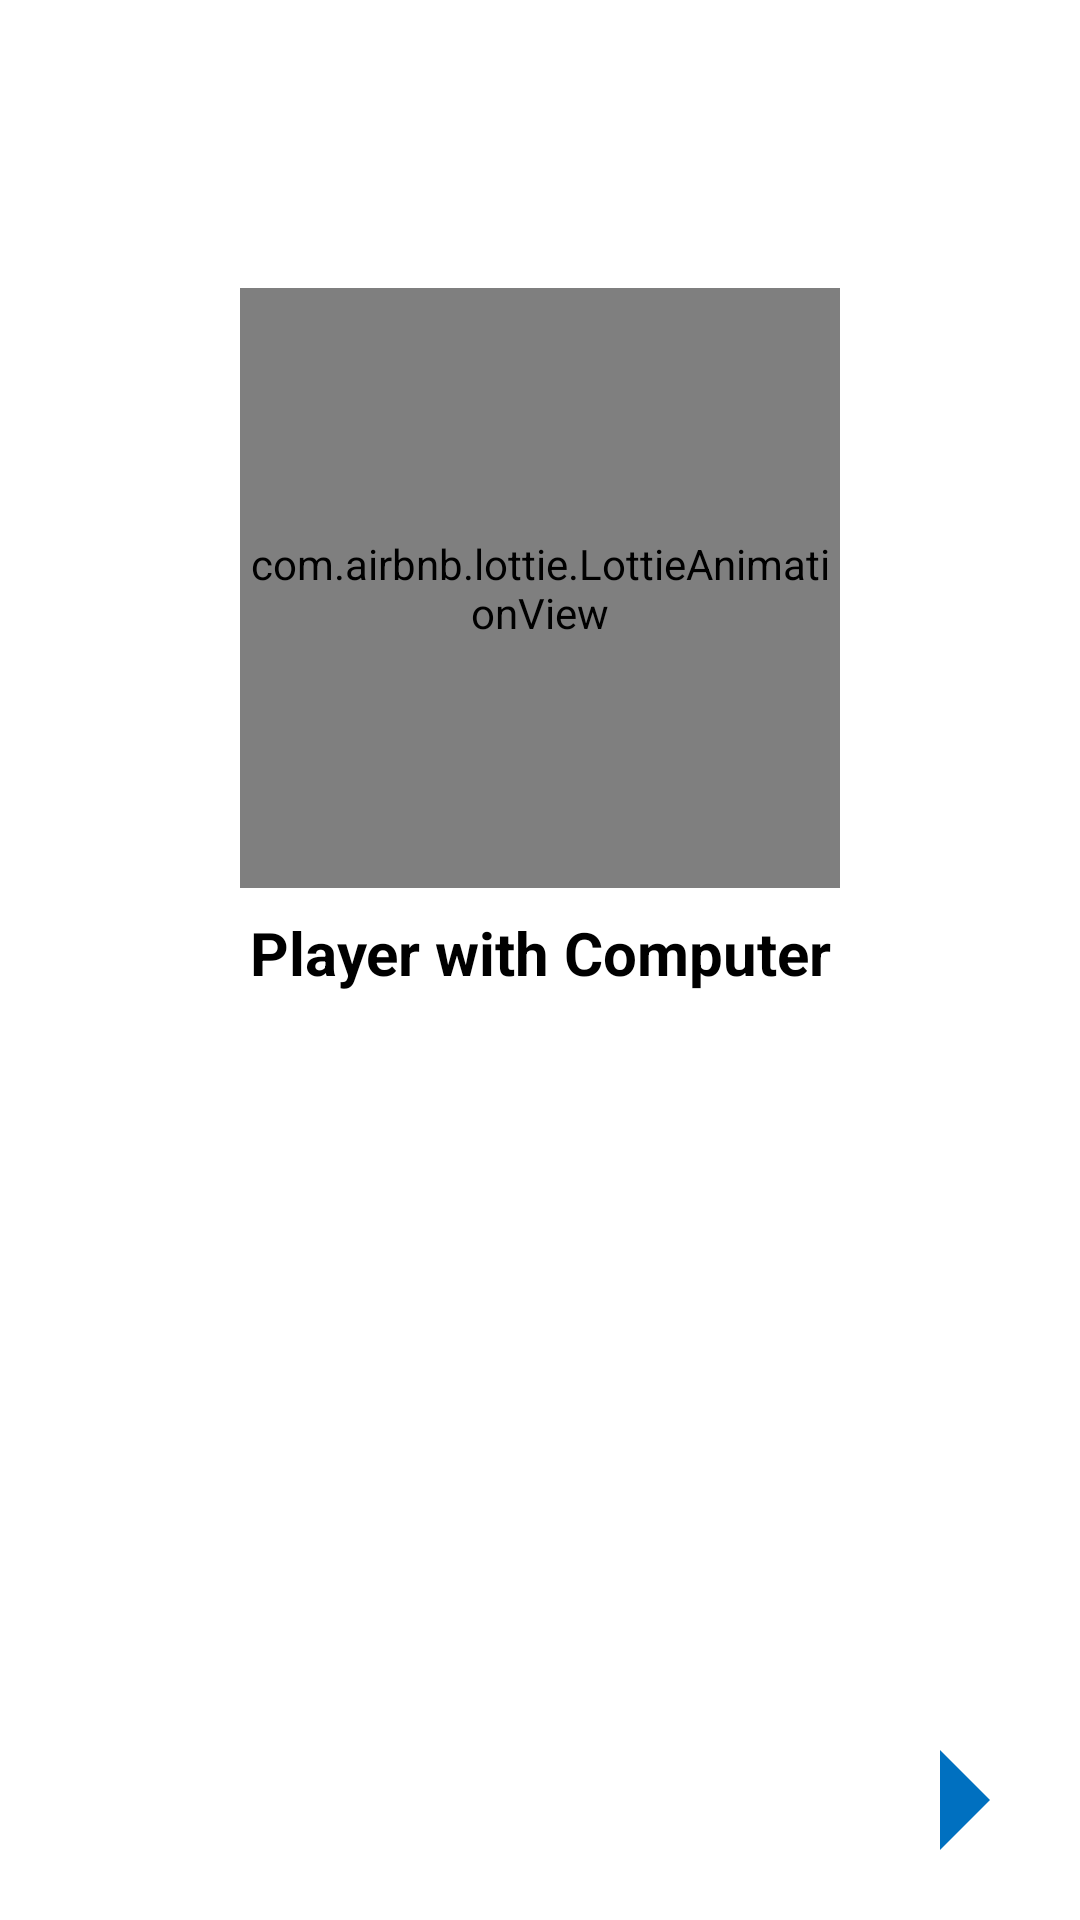

Where icons sit on this 1080 × 1920 app screen, as (x1, y1, x2, y2):
next: (940, 1750, 990, 1850)
